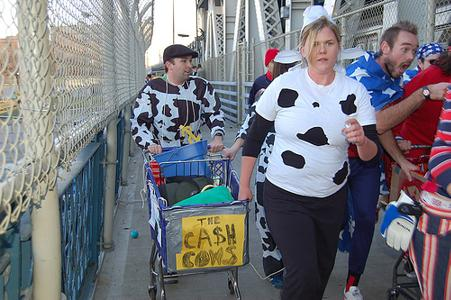person: (130, 41, 226, 283)
